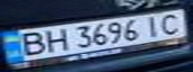3: (69, 22, 93, 50)
6: (121, 17, 145, 42), (90, 20, 112, 47)
9: (106, 19, 127, 45)
B: (9, 29, 51, 57)
C: (154, 11, 190, 36)
H: (39, 26, 72, 53)
I: (139, 13, 166, 37)
